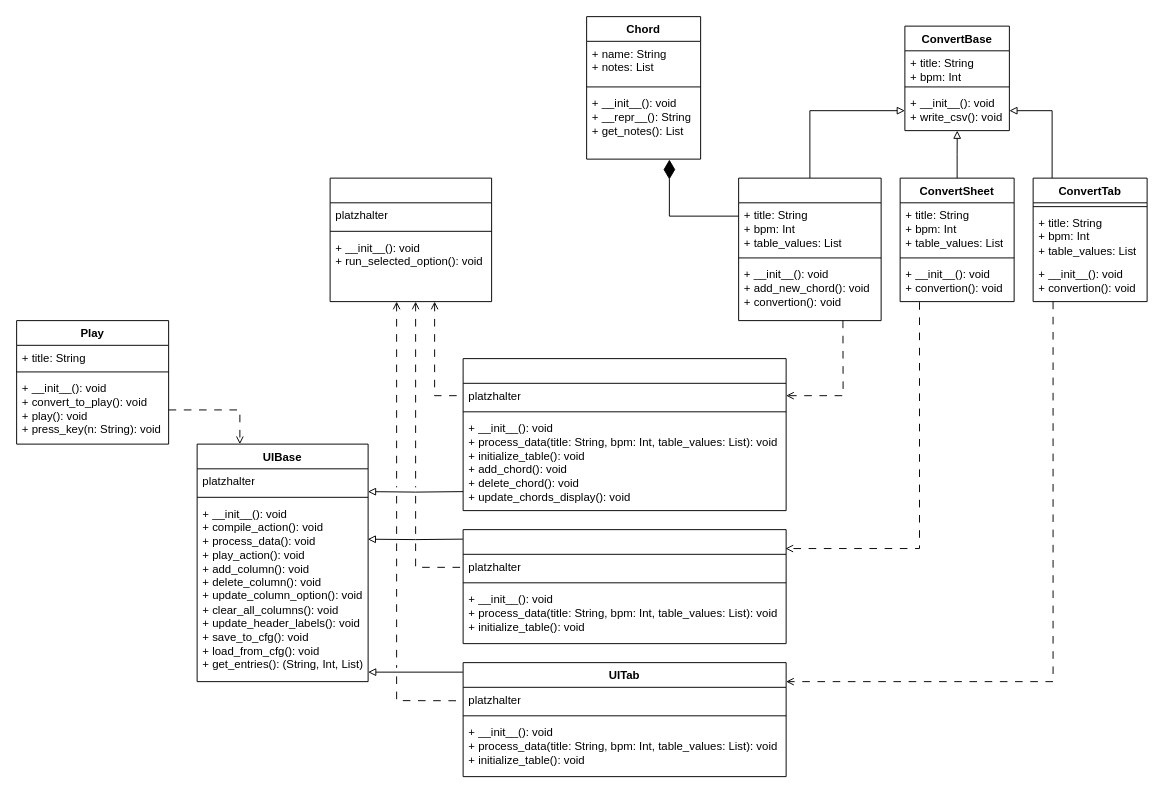
Some shapes in this 1164 by 796 pixel diagram are drawn without their labels. Each missing label, with the box of its shape:
ConvertChords: (738, 177, 881, 321)
UIChord: (462, 358, 786, 511)
UIMain: (329, 177, 492, 302)
UISheet: (462, 529, 786, 644)
